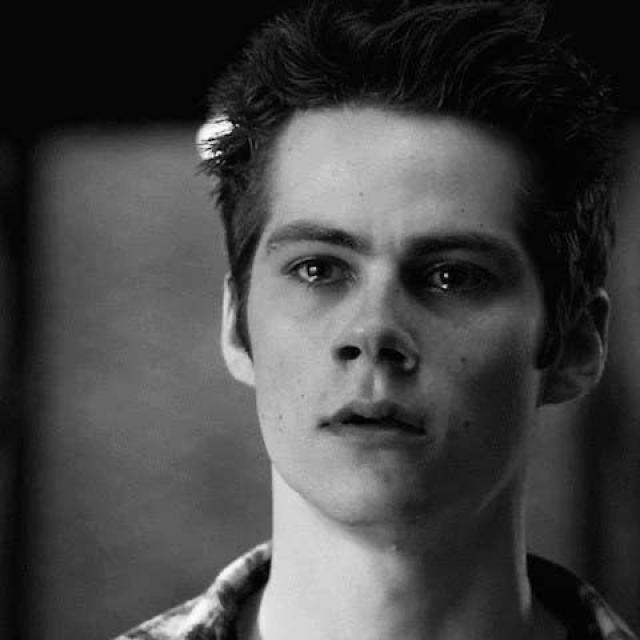natural: (249, 106, 522, 523)
